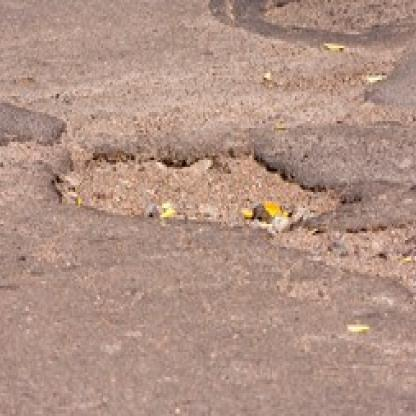pothole: (51, 139, 343, 238), (252, 0, 416, 37)
